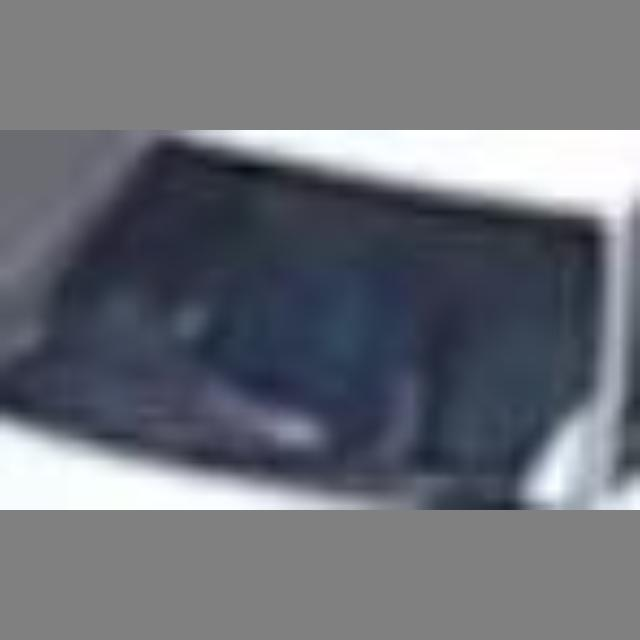tidak-pakai: (173, 216, 424, 459)
